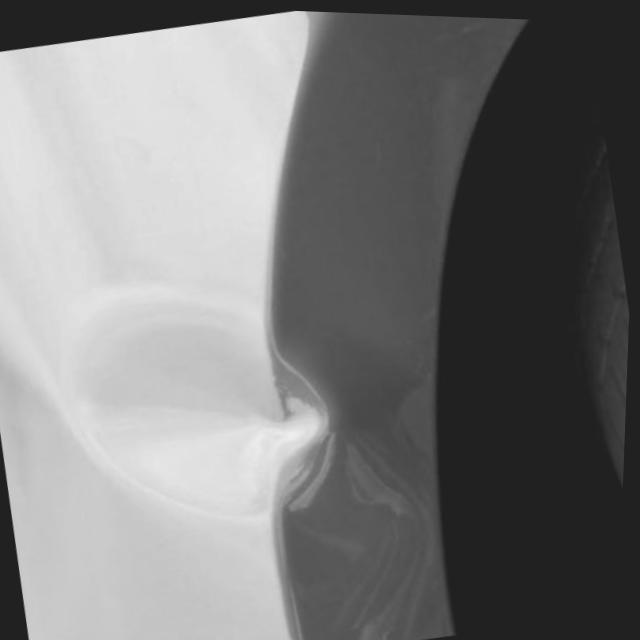Dent: (70, 303, 341, 524)
